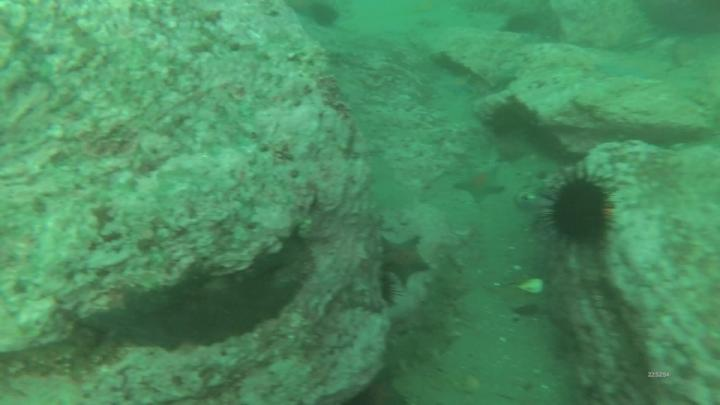echinus: (556, 175, 612, 247), (510, 14, 543, 35), (312, 4, 341, 27)
holothurian: (427, 258, 465, 337), (382, 331, 450, 372)
starfish: (382, 236, 433, 283), (458, 162, 507, 202)
